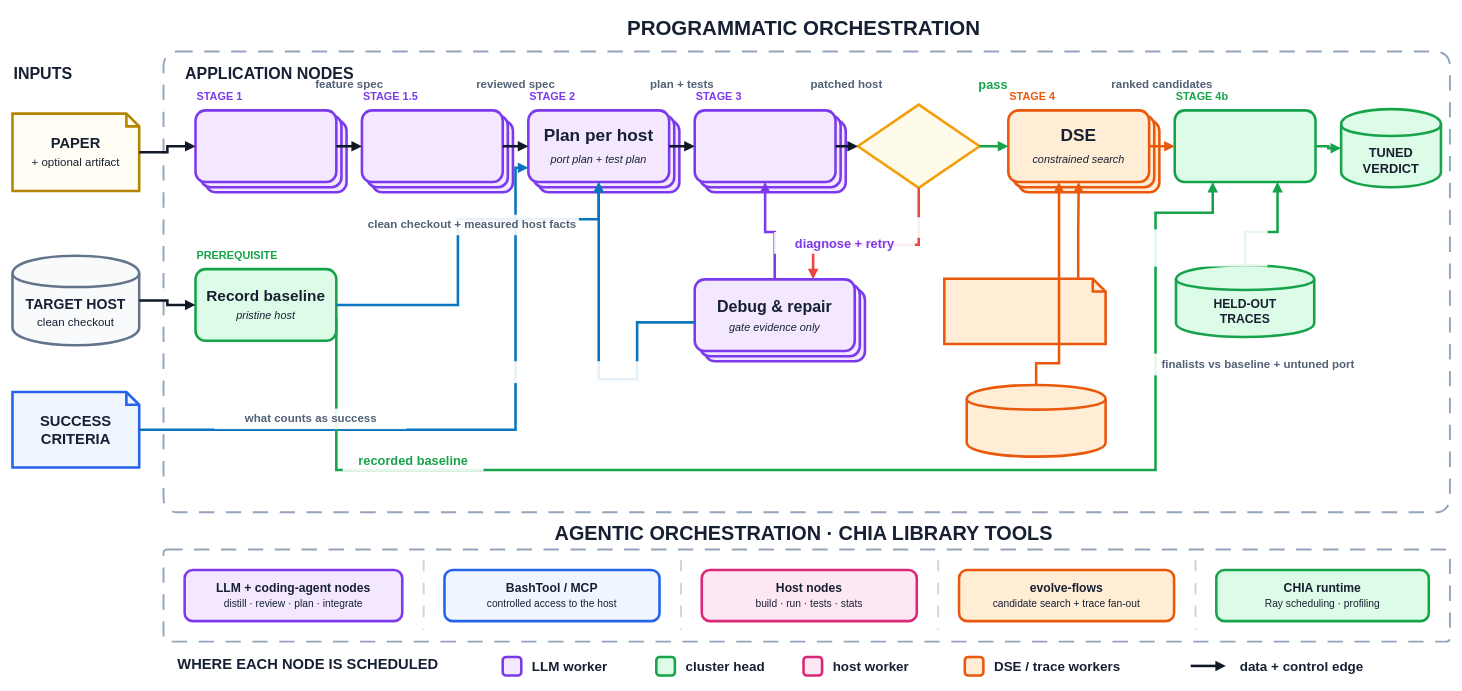
Image size: 1462x691. Some labels were removed from this diagram. The shapes that lost their labels are listed below. From the top down, each one's centre as x and y in pixels, then its label:
At point (265, 146): "Distill paper → feature spec".
At point (432, 146): "Spec review evidence-check claims".
At point (764, 146): "Integrate coding agent + BashTool".
At point (918, 146): "VERIFY G1–G6".
At point (1244, 146): "Promote held-out finalists".
At point (898, 227): "fail".
At point (1187, 247): "only stage that sees resource constraints".
At point (1025, 311): "CONSTRAINT SET e.g. storage allowance".
At point (536, 372): "escalate frozen plan fact → revise / replan".
At point (1036, 420): "SCREENING TRACES".
